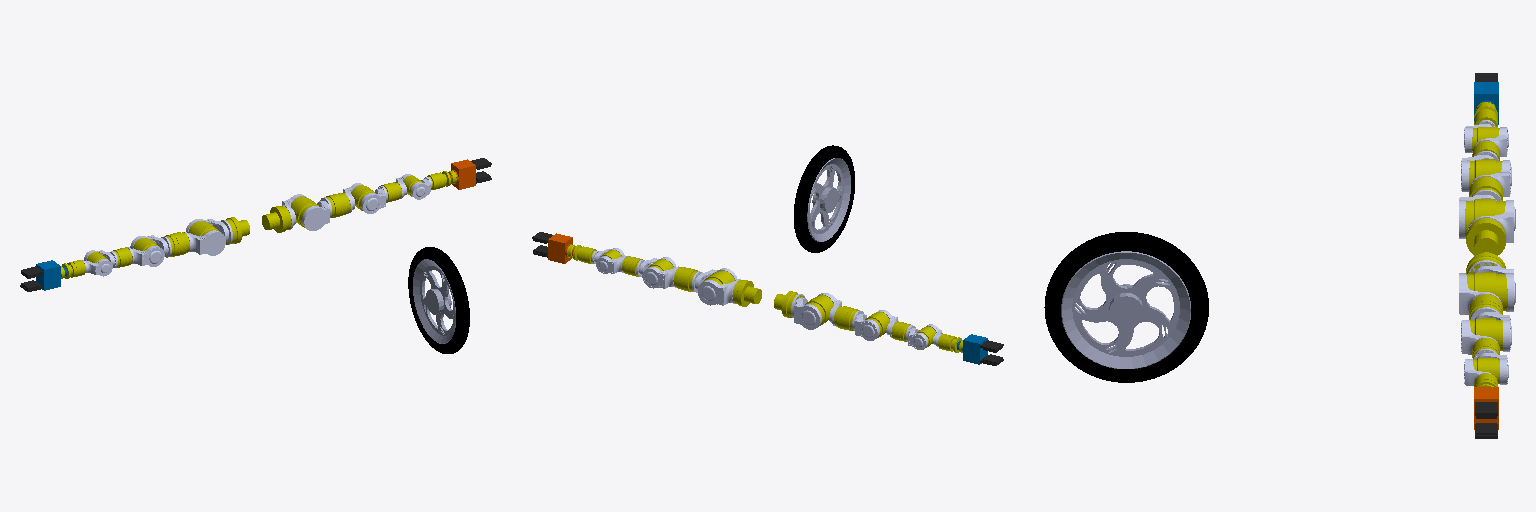
robot.urdf — Krang:
<?xml version="1.0" ?>
<!-- @file Krang.urdf -->
<!-- @author [author] -->
<!-- @date May 10, 2013 -->
<!-- @brief This file contains the .urdf definition for Krang. -->
<!-- NOTE: The center of mass locations are taken from the MassTable by summing up the -->
<!-- individual part values for the sections (which correspond to nodes here). -->
<!-- TODO: Set the center of mass locations -->
<!-- TODO: Set the correct masses. Note that the dae models have the brackets divided in two and -->
<!-- connected to the middle motor for which we do not have measurements. -->
<!-- NOTE: The bounding box values are taken by finding the min and max values of the dae files. -->

<robot name="Krang">

	<!-- Links -->
	<link name = "world" />

	<link name = "LWheel">
    <inertial>
      <mass value="4.66"/>
      <inertia ixx="0.102019" ixy="2.45462e-05" ixz="0.00713022" iyy="0.0832724" iyz="-0.00131733" izz="0.086493"/>
      <origin xyz="0 0 0"/>
    </inertial>
		<visual> <geometry> <mesh filename="../scenes/Base/newwheel.dae" /> </geometry> </visual>
		<collision> <geometry> <mesh filename="../scenes/Base/newwheel.dae" /> </geometry> </collision>
	</link>

	<!-- <link name = "RWheel">
    <inertial>
      <mass value="4.66"/>
      <inertia ixx="0.102019" ixy="2.45462e-05" ixz="0.00713022" iyy="0.0832724" iyz="-0.00131733" izz="0.086493"/>
      <origin xyz="0 0 0"/>
    </inertial>
		<visual> <geometry> <mesh filename="../files/scenes/Base/oldwheel.dae" /> </geometry> </visual>
		<collision> <geometry> <mesh filename="../files/scenes/Base/oldwheel.dae" /> </geometry> </collision>
	</link> -->

	<!-- Finalized Inertial Parameters for Krang Base, Spine and Bracket -->

	<link name = "Base">
    <inertial>
      <mass value="75.767"/>
      <inertia ixx="2.9427" ixy="0.0001" ixz="0.0037" iyy="2.4034" iyz="-0.0113" izz="1.2335"/>
      <origin xyz="-0.000628 0.001940 0.076721"/>
    </inertial>
		<visual> <geometry> <mesh filename="../scenes/base.dae" /> </geometry> </visual>
		<collision> <origin xyz="0.00225 0.2097395 0.006300"/> <geometry> <box size="0.7165 0.71048 0.32860"/> </geometry> </collision>
	</link>

	<link name = "Spine">
    <inertial>
      <mass value="14.006"/>
      <inertia ixx="0.5601" ixy="0.0003" ixz="0.1548" iyy="0.53" iyz="-0.006" izz="0.2328"/>
      <origin xyz="-0.051222 0.000345 0.080526"/>
    </inertial>
		<visual> <geometry> <mesh filename="../scenes/spine.dae" /> </geometry> </visual>
		<collision> <origin xyz="-0.026 0.230150 0.053887"/> <geometry> <box size="0.2340 0.59430 0.24097"/> </geometry> </collision>
	</link>

	<link name = "Bracket">
    <inertial>
      <mass value="6.533"/>
      <inertia ixx="0.1003" ixy="0" ixz="0" iyy="0.0214" iyz="0" izz="0.0987"/>
      <origin xyz="0.0 0.076445 -0.005972"/>
    </inertial>
		<visual> <geometry> <mesh filename="../scenes/bracket.dae" /> </geometry> </visual>
		<collision> <origin xyz="0.0012875 0.0582 -0.0280530"/> <geometry> <box size="0.2815 0.23 0.22611"/> </geometry> </collision>
	</link>

	<link name = "Kinect">
    <inertial>
      <mass value="0.705"/>
      <inertia ixx="0.102019" ixy="2.45462e-05" ixz="0.00713022" iyy="0.0832724" iyz="-0.00131733" izz="0.086493"/>
      <origin xyz="0.0 -0.04 -0.028"/>
    </inertial>
		<visual> <geometry> <mesh filename="../scenes/Kinect/Kinect.dae" /> </geometry> </visual>
		<collision> <origin xyz="0.0 -0.0251 -0.0185"/> <geometry> <box size="0.28 0.07 0.063"/> </geometry> </collision>
	</link>

	<link name = "L1">
    <inertial>
			<mass value="7.35"/>
			<inertia ixx="0.0381" ixy="0.0104" ixz="0" iyy="0.0187" iyz="0" izz="0.0430"/>
			<origin xyz="0.0217 -0.0691 0"/>
    </inertial>
		<visual> <geometry> <mesh filename="../scenes/Schunk/L1.dae" /> </geometry> </visual>
		<collision> <origin xyz="0.015 -0.080866 0.0"/> <geometry> <box size="0.16 0.29367 0.13188"/> </geometry> </collision>
	</link>

	<link name = "L2">
    <inertial>
      	<mass value="6.1405"/>
      	<inertia ixx="0.0320" ixy="0.0097" ixz="0" iyy="0.0134" iyz="0" izz="0.0350"/>
				<origin xyz="0.0269 -0.0548 0"/>
    </inertial>
		<visual> <geometry> <mesh filename="../scenes/Schunk/L2.dae" /> </geometry> </visual>
		<collision> <origin xyz="0.017042 -0.058309 0.0"/> <geometry> <box size="0.14591 0.24658 0.13"/> </geometry> </collision>
	</link>

	<link name = "L3">
    <inertial>
      	<mass value="4.531"/>
      	<inertia ixx="0.0180" ixy="0.005" ixz="0" iyy="0.0084" iyz="0" izz="0.0204"/>
				<origin xyz="0.0188 -0.00619 0"/>
    </inertial>
		<visual> <geometry> <mesh filename="../scenes/Schunk/L3.dae" /> </geometry> </visual>
		<collision> <origin xyz="0.014000 -0.075113 0.0"/> <geometry> <box size="0.13800 0.26217 0.11189"/> </geometry> </collision>
	</link>

	<link name = "L4">
    <inertial>
      	<mass value="3.2245"/>
      	<inertia ixx="0.0133" ixy="0.004" ixz="0" iyy="0.0049" iyz="0" izz="0.0145"/>
				<origin xyz="0.0238 -0.0484 0"/>
    </inertial>
		<visual> <geometry> <mesh filename="../scenes/Schunk/L4.dae" /> </geometry> </visual>
		<collision> <origin xyz="0.018200 -0.052050 0.0"/> <geometry> <box size="0.12960 0.2141 0.11"/> </geometry> </collision>
	</link>

	<link name = "L5">
    <inertial>
      	<mass value="2.318"/>
      	<inertia ixx="0.0063" ixy="0.0017" ixz="0" iyy="0.0029" iyz="0" izz="0.0072"/>
				<origin xyz="0.0166 -0.0494 0"/>
    </inertial>
		<visual> <geometry> <mesh filename="../scenes/Schunk/L5.dae" /> </geometry> </visual>
		<collision> <origin xyz="0.0145115 -0.0571105 0.0000425"/> <geometry> <box size="0.117977 0.204179 0.089915"/> </geometry> </collision>
	</link>

	<link name = "L6">
    <inertial>
      	<mass value="2.318"/>
      	<inertia ixx="0.0071" ixy="0.0020" ixz="0" iyy="0.0029" iyz="0" izz="0.008"/>
				<origin xyz="0.0232 -0.0377 0"/>
    </inertial>
		<visual> <geometry> <mesh filename="../scenes/Schunk/L6.dae" /> </geometry> </visual>
		<collision> <origin xyz="0.0175015 -0.0481615 0.0"/> <geometry> <box size="0.111977 0.185277 0.089"/> </geometry> </collision>
	</link>

	<link name = "lGripper">
	    <inertial>
				<mass value="2.3838"/>
				<inertia ixx="0.0104" ixy="0" ixz="0" iyy="0.0108" iyz="0" izz="0.0027"/>
				<!-- An addition of 4.05 cms from the end of Schunk gripper to space between two halves of ft -->
	      <origin xyz="0 0 0.1055"/>
	    </inertial>
		<visual>
			<geometry>
				<mesh filename="../scenes/Schunk/L7.dae" />
			</geometry>
			<!-- <origin rpy="0 0 1.0"/>  -->
		</visual>
		<collision>
			<origin xyz="0.0 -0.0 -0.02615" rpy="0.0 0.0 1.5708"/>
			<geometry>
				<box size="0.08 0.112 0.2025"/>
			</geometry>
		</collision>
	</link>

	<link name = "lgPlate1">
    <inertial>
      <inertia ixx="0.102019" ixy="2.45462e-05" ixz="0.00713022" iyy="0.0832724" iyz="-0.00131733" izz="0.086493"/>
			<mass value="0.0001"/> </inertial>
		<visual> <geometry> <mesh filename="../scenes/Schunk/gripperPlate.dae" /> </geometry> </visual>
	</link>

	<link name = "lgPlate2">
    <inertial>
      <inertia ixx="0.102019" ixy="2.45462e-05" ixz="0.00713022" iyy="0.0832724" iyz="-0.00131733" izz="0.086493"/>
			<mass value="0.0001"/> </inertial>
		<visual> <geometry> <mesh filename="../scenes/Schunk/gripperPlate.dae" /> </geometry> </visual>
	</link>

	<!-- RIGHT ARM LINKS -->
	<link name = "R1">
    <inertial>
			<mass value="7.35"/>
			<inertia ixx="0.0381" ixy="0.0104" ixz="0" iyy="0.0187" iyz="0" izz="0.0430"/>
			<origin xyz="0.0217 -0.0691 0"/>
    </inertial>
		<visual> <geometry> <mesh filename="../scenes/Schunk/L1.dae" /> </geometry> </visual>
		<collision> <origin xyz="0.015 -0.080866 0.0"/> <geometry> <box size="0.16 0.29367 0.13188"/> </geometry> </collision>
	</link>

	<link name = "R2">
    <inertial>
      	<mass value="6.1405"/>
      	<inertia ixx="0.0320" ixy="0.0097" ixz="0" iyy="0.0134" iyz="0" izz="0.0350"/>
				<origin xyz="0.0269 -0.0548 0"/>
    </inertial>
		<visual> <geometry> <mesh filename="../scenes/Schunk/L2.dae" /> </geometry> </visual>
		<collision> <origin xyz="0.017042 -0.058309 0.0"/> <geometry> <box size="0.14591 0.24658 0.13"/> </geometry> </collision>
	</link>

	<link name = "R3">
    <inertial>
      	<mass value="4.531"/>
      	<inertia ixx="0.0180" ixy="0.005" ixz="0" iyy="0.0084" iyz="0" izz="0.0204"/>
				<origin xyz="0.0188 -0.00619 0"/>
    </inertial>
		<visual> <geometry> <mesh filename="../scenes/Schunk/L3.dae" /> </geometry> </visual>
		<collision> <origin xyz="0.014000 -0.075113 0.0"/> <geometry> <box size="0.13800 0.26217 0.11189"/> </geometry> </collision>
	</link>

	<link name = "R4">
    <inertial>
      	<mass value="3.2245"/>
      	<inertia ixx="0.0133" ixy="0.004" ixz="0" iyy="0.0049" iyz="0" izz="0.0145"/>
				<origin xyz="0.0238 -0.0484 0"/>
    </inertial>
		<visual> <geometry> <mesh filename="../scenes/Schunk/L4.dae" /> </geometry> </visual>
		<collision> <origin xyz="0.018200 -0.052050 0.0"/> <geometry> <box size="0.12960 0.2141 0.11"/> </geometry> </collision>
	</link>

	<link name = "R5">
    <inertial>
      	<mass value="2.318"/>
      	<inertia ixx="0.0063" ixy="0.0017" ixz="0" iyy="0.0029" iyz="0" izz="0.0072"/>
				<origin xyz="0.0166 -0.0494 0"/>
    </inertial>
		<visual> <geometry> <mesh filename="../scenes/Schunk/L5.dae" /> </geometry> </visual>
		<collision> <origin xyz="0.0145115 -0.0571105 0.0000425"/> <geometry> <box size="0.117977 0.204179 0.089915"/> </geometry> </collision>
	</link>

	<link name = "R6">
    <inertial>
      	<mass value="2.318"/>
      	<inertia ixx="0.0071" ixy="0.0020" ixz="0" iyy="0.0029" iyz="0" izz="0.008"/>
				<origin xyz="0.0232 -0.0377 0"/>
    </inertial>
		<visual> <geometry> <mesh filename="../scenes/Schunk/L6.dae" /> </geometry> </visual>
		<collision> <origin xyz="0.0175015 -0.0481615 0.0"/> <geometry> <box size="0.111977 0.185277 0.089"/> </geometry> </collision>
	</link>

	<link name = "rGripper">
    <inertial>
     	<mass value="2.3838"/>
			<inertia ixx="0.0104" ixy="0" ixz="0" iyy="0.0108" iyz="0" izz="0.0027"/>
			<!-- An addition of 4.05 cms from the end of Schunk gripper to space between two halves of ft -->
      <origin xyz="0 0 0.1055"/>
    </inertial>
		<visual> <geometry> <mesh filename="../scenes/Schunk/L7.dae" /> </geometry> </visual>
		<collision> <origin xyz="0.0 -0.0 0.02615" rpy="0.0 0.0 1.5708"/> <geometry> <box size="0.08 0.112 0.2025"/> </geometry> </collision>
	</link>

	<link name = "rgPlate1">
    <inertial>
      <inertia ixx="0.102019" ixy="2.45462e-05" ixz="0.00713022" iyy="0.0832724" iyz="-0.00131733" izz="0.086493"/>
			<mass value="0.0001"/>
		</inertial>
		<visual> <geometry> <mesh filename="../scenes/Schunk/gripperPlate.dae" /> </geometry> </visual>
	</link>

	<link name = "rgPlate2">
    <inertial>
      <inertia ixx="0.102019" ixy="2.45462e-05" ixz="0.00713022" iyy="0.0832724" iyz="-0.00131733" izz="0.086493"/>
			<mass value="0.0001"/>
		</inertial>
		<visual> <geometry> <mesh filename="../scenes/Schunk/gripperPlate.dae" /> </geometry> </visual>
	</link>


	<!-- ======================================================================================================== -->
	<!-- ============================================ Joints ==================================================== -->
	<!-- ======================================================================================================== -->
<!-- Creating two arbitrary joints to fix the wheels in place - parent is world, child is JWheel -->

	<joint name="FixedJLWheel" type="fixed"> <parent link="world" /> <child link="LWheel" />
		<origin xyz = "-0.354 0.0 0" rpy="0 0 0" />
		<axis xyz="1 0 0" /> <limit effort="1000" lower="-3.1416" upper="3.1416" velocity="0.1" />
	</joint>

	<!-- <joint name="FixedJRWheel" type="fixed"> <parent link="world" /> <child link="RWheel" />
		<origin xyz = "0.361 0.0 0" rpy="0 0 0" />
		<axis xyz="1 0 0" /> <limit effort="1000" lower="-3.1416" upper="3.1416" velocity="0.1" />
	</joint> -->

	<joint name="JLWheel" type="revolute"> <parent link="LWheel" /> <child link="Base" />
		<origin xyz = "-0.354 0.0 0" rpy="0 0 0" />
		<axis xyz="1 0 0" /> <limit effort="1000" lower="-3.1416" upper="3.1416" velocity="0.1" />
	</joint>

	<!-- <joint name="JRWheel" type="revolute"> <parent link="Base" /> <child link="RWheel" />
		<origin xyz = "0.361 0.0 0" rpy="0 0 0" />
		<axis xyz="1 0 0" /> <limit effort="1000" lower="-3.1416" upper="3.1416" velocity="0.1" />
	</joint> -->

	<joint name="JWaist" type="revolute"> <parent link="Base" /> <child link="Spine" />
		<origin xyz = "0.026 0.499 -0.091" rpy="0 0 0" />
		<axis xyz="-1 0 0" /> <limit effort="1000" lower="0" upper="2.7" velocity="0.1" />
	</joint>

	<joint name="JTorso" type="revolute"> <parent link="Spine" /> <child link="Bracket" />
		<origin xyz = "-0.0285 0.584 0.1088" rpy="0 3.1416 0" />
		<axis xyz="0 -1 0" /> <limit effort="1000" lower="-0.8" upper="0.8" velocity="0.1" />
	</joint>

	<joint name="JKinect" type="revolute"> <parent link="Bracket" /> <child link="Kinect" />
		<origin xyz = "-0.001 0.1805 -0.1120" rpy="3.1416 0 0" />
		<axis xyz="1 0 0" /> <limit effort="1000" lower="-3.1416" upper="3.1416" velocity="0.1" />
	</joint>

		<!-- =================== Left Arm =================== -->
		<!-- ================================================ -->

	<joint name="LJ1" type="revolute"> <parent link="Bracket" /> <child link="L1" />
		<origin xyz = "0.2823 0.0845 0" rpy="0 3.1416 -1.5708" />
		<axis xyz="0 -1 0" /> <limit effort="1000" lower="-3.1416" upper="3.1416" velocity="0.1" />
	</joint>

	<joint name="LJ2" type="revolute"> <parent link="L1" /> <child link="L2" />
		<origin xyz="0 0.0 0" rpy="3.14 3.14 0" />
		<axis xyz="-1 0 0" /> <limit effort="1000" lower="-2.094" upper="2.094" velocity="0.1" />
	</joint>

	<joint name="LJ3" type="revolute"> <parent link="L2" /> <child link="L3" />
		<origin xyz="0 -0.328 0" rpy="-3.1416 -3.1416 0" />
		<axis xyz="0 -1 0" /> <limit effort="1000" lower="-4.7124" upper="4.7124" velocity="0.1" />
	</joint>

	<joint name="LJ4" type="revolute"> <parent link="L3" /> <child link="L4" />
		<origin xyz="0 0 0" rpy="3.1416 3.1416 0" />
		<axis xyz="-1 0 0" /> <limit effort="1000" lower="-2.094" upper="2.094" velocity="0.1" />
	</joint>

	<joint name="LJ5" type="revolute"> <parent link="L4" /> <child link="L5" />
		<origin xyz="0 -0.2765 0" rpy="3.1416 3.1416 0" />
		<axis xyz="0 -1 0" /> <limit effort="1000" lower="-4.7124" upper="4.7124" velocity="0.1" />
	</joint>

	<joint name="LJ6" type="revolute"> <parent link="L5" /> <child link="L6" />
		<origin xyz="0 0 0" rpy="0 0 3.1416" />
		<axis xyz="-1 0 0" /> <limit effort="1000" lower="-2.094" upper="2.094" velocity="0.1" />
	</joint>

	<!-- For some reason, I had to negate the axis to make sure the motor turns like the others -->
	<joint name="LJFT" type="revolute"> <parent link="L6" /> <child link="lGripper" />
		<origin xyz="0 -0.200 0" rpy="1.5708 4.7124 0" />
		<axis xyz="0 0 -1" /> <limit effort="1000" lower="-4.7124" upper="4.7124" velocity="0.1" />
	</joint>

	<joint name="LMotorPlate1" type="fixed"> <parent link="lGripper" /> <child link="lgPlate1" />
		<origin xyz="-0.045 0.0 0.127" rpy="3.1416 0 0" />
		<axis xyz="1 0 0" /> <limit effort="1000" lower="0.0" upper="0.022" velocity="0.1" />
	</joint>

	<joint name="LMotorPlate2" type="fixed"> <parent link="lGripper" /> <child link="lgPlate2" />
		<origin xyz="0.045 0.000 0.127" rpy="3.1416 0 3.1416" />
		<axis xyz="1 0 0" /> <limit effort="1000" lower="0.0" upper="0.022" velocity="0.1" />
	</joint>

	<!-- =================== Right Arm ================== -->
	<!-- ================================================ -->

	<joint name="RJ1" type="revolute"> <parent link="Bracket" /> <child link="R1" />
		<origin xyz = "-0.2823 0.0845 0" rpy="0 0 1.5708" />
		<axis xyz="0 -1 0" /> <limit effort="1000" lower="-4.7124" upper="4.7124" velocity="0.1" />
	</joint>

	<joint name="RJ2" type="revolute"> <parent link="R1" /> <child link="R2" />
		<origin xyz="0 0.0 0" rpy="3.14 3.14 0" />
		<axis xyz="-1 0 0" /> <limit effort="1000" lower="-2.094" upper="2.094" velocity="0.1" />
	</joint>

	<joint name="RJ3" type="revolute"> <parent link="R2" /> <child link="R3" />
		<origin xyz="0 -0.328 0" rpy="-3.1416 -3.1416 0" />
		<axis xyz="0 -1 0" /> <limit effort="1000" lower="-4.7124" upper="4.7124" velocity="0.1" />
	</joint>

	<joint name="RJ4" type="revolute"> <parent link="R3" /> <child link="R4" />
		<origin xyz="0 0 0" rpy="-3.1416 3.1416 0" />
		<axis xyz="-1 0 0" /> <limit effort="1000" lower="-2.094" upper="2.094" velocity="0.1" />
	</joint>

	<joint name="RJ5" type="revolute"> <parent link="R4" /> <child link="R5" />
		<origin xyz="0 -0.2765 0" rpy="3.1416 3.1416 0" />
		<axis xyz="0 -1 0" /> <limit effort="1000" lower="-4.7124" upper="4.7124" velocity="0.1" />
	</joint>

	<joint name="RJ6" type="revolute"> <parent link="R5" /> <child link="R6" />
		<origin xyz="0 0 0" rpy="0 0 3.1416" />
		<axis xyz="-1 0 0" /> <limit effort="1000" lower="-2.094" upper="2.094" velocity="0.1" />
	</joint>

	<joint name="RJFT" type="revolute"> <parent link="R6" /> <child link="rGripper" />
		<origin xyz="0 -0.200 0" rpy="1.5708 4.7124 0" />
		<axis xyz="0 0 -1" /> <limit effort="1000" lower="-4.7124" upper="4.7124" velocity="0.1" />
	</joint>

	<joint name="RMotorPlate1" type="fixed"> <parent link="rGripper" /> <child link="rgPlate1" />
		<origin xyz="-0.045 0.0 0.127" rpy="3.1416 0 0" />
		<axis xyz="1 0 0" /> <limit effort="1000" lower="0.0" upper="0.022" velocity="0.1" />
	</joint>

	<joint name="RMotorPlate2" type="fixed"> <parent link="rGripper" /> <child link="rgPlate2" />
		<origin xyz="0.045 0.000 0.127" rpy="3.1416 0 3.1416" />
		<axis xyz="1 0 0" /> <limit effort="1000" lower="0.0" upper="0.022" velocity="0.1" />
	</joint>

</robot>

--- Render facts (derived) ---
3 views of the same robot in one strip: view 1: azimuth 30°, elevation 25°; view 2: azimuth 150°, elevation 25°; view 3: azimuth 270°, elevation 25° (orthographic).
Model Krang with 24 links and 23 joints (18 revolute, 5 fixed), rooted at world, posed all joints at 0.
Links seen in each view (by area): view 1: LWheel, R2, L2, R1, L1, R4, lGripper, rGripper, L4, L3, R6, L6; view 2: LWheel, R1, L1, L3, R3, lGripper, rGripper, R2, L5, R5, L2; view 3: LWheel, L1, R1, R3, L2, R2, L4, R5, L3, lGripper, R4, L6 (+3 smaller).
Link boxes in pixels (<box>): LWheel: <box>408,247,469,353</box>; R2: <box>296,194,343,230</box>; L2: <box>173,226,225,255</box>; R1: <box>262,194,313,232</box>; L1: <box>186,217,249,244</box>; R4: <box>356,183,396,213</box>; lGripper: <box>36,260,76,290</box>; rGripper: <box>439,159,475,189</box>; L4: <box>118,242,164,266</box>; L3: <box>130,234,178,257</box>; R6: <box>407,173,442,199</box>; L6: <box>73,256,112,276</box>; LWheel: <box>794,145,854,252</box>; R1: <box>698,273,761,306</box>; L1: <box>774,291,830,329</box>; L3: <box>845,308,887,340</box>; R3: <box>642,261,685,289</box>; lGripper: <box>947,334,987,364</box>; rGripper: <box>548,233,585,263</box>; R2: <box>680,268,736,292</box>; L5: <box>900,323,933,349</box>; R5: <box>596,251,630,273</box>; L2: <box>815,293,850,329</box>; LWheel: <box>1044,232,1208,382</box>; L1: <box>1466,199,1515,255</box>; R1: <box>1466,252,1515,311</box>; R3: <box>1469,301,1511,351</box>; L2: <box>1459,180,1502,238</box>; R2: <box>1459,273,1502,314</box>; L4: <box>1461,143,1499,191</box>; R5: <box>1473,344,1508,384</box>; L3: <box>1469,159,1511,196</box>; lGripper: <box>1474,82,1498,124</box>; R4: <box>1461,319,1499,357</box>; L6: <box>1464,111,1497,152</box>.
Bounding box of the posed robot: 2.61 × 1.53 × 0.535 m (x, y, z).
Meshes: 13 distinct files referenced, 19 mesh visuals loaded (9 Collada DAE); not drawn: 1 (reference not matched to a file when rendering), 3 (file found but could not be loaded).